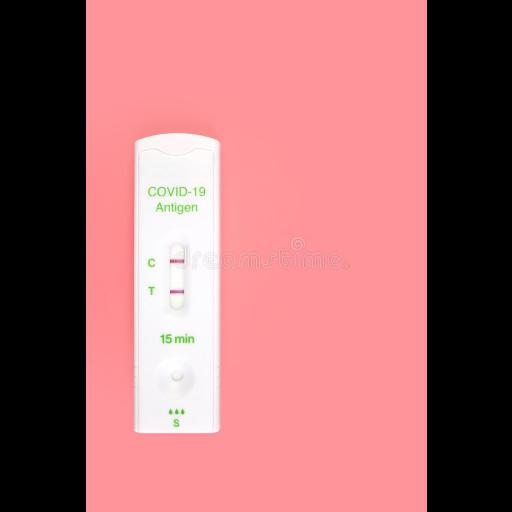Pos: (135, 138, 219, 432)
